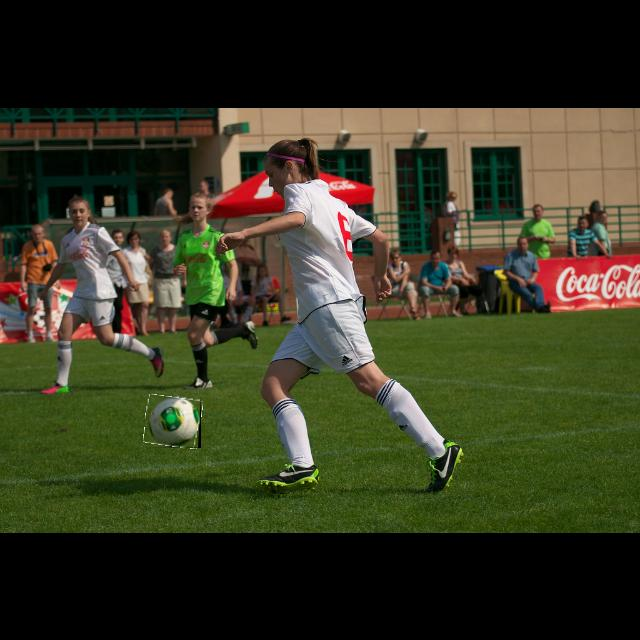Football: (145, 396, 201, 448)
